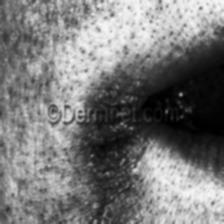Toxin: (80, 131, 149, 158), (80, 82, 144, 106)
